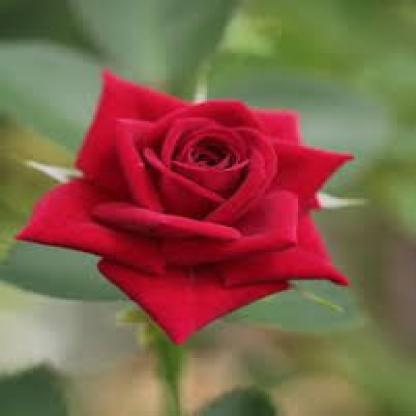Rose-Mawar: (5, 56, 353, 347)
